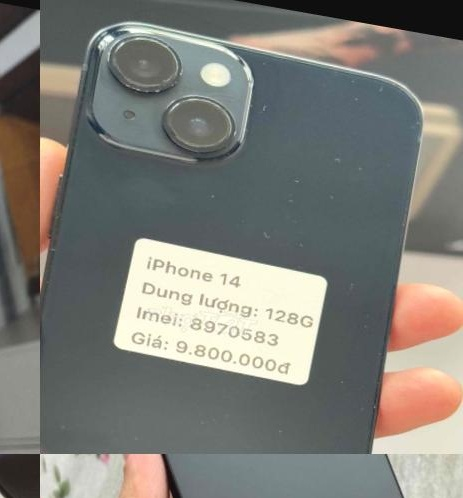scratch: (151, 88, 248, 192), (90, 20, 202, 103), (245, 229, 315, 255), (403, 115, 441, 160), (276, 169, 309, 217), (327, 150, 372, 179), (268, 419, 300, 454), (336, 274, 365, 312), (371, 81, 395, 107), (258, 96, 276, 125), (325, 186, 347, 206), (351, 97, 371, 119), (295, 449, 314, 454)
